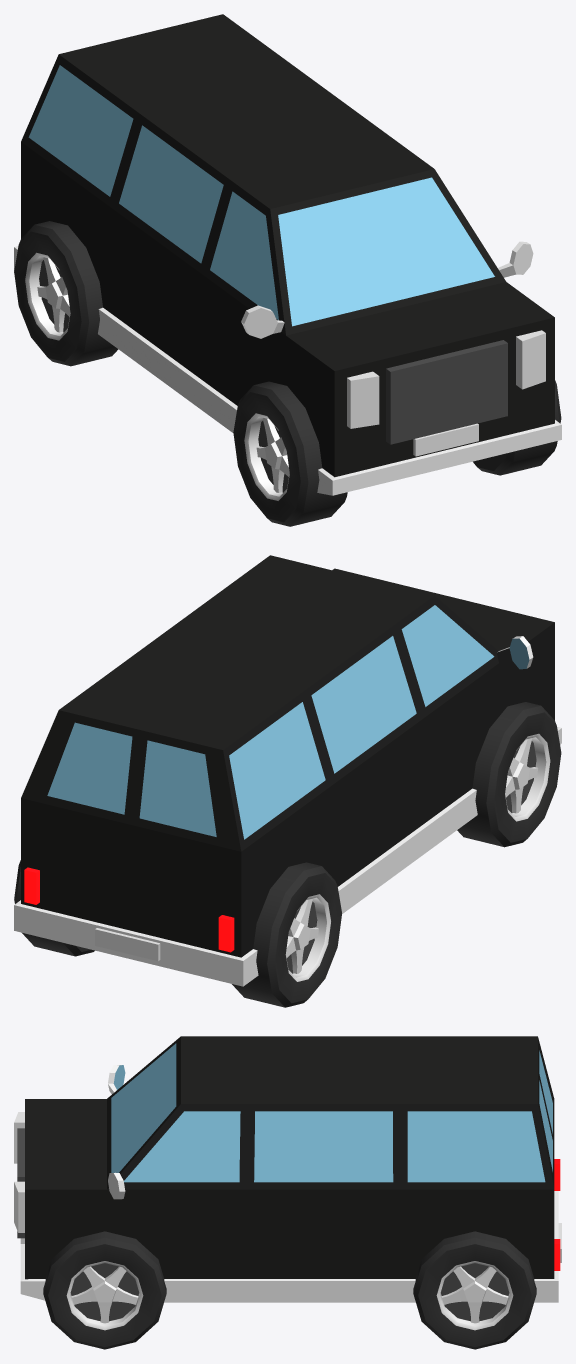
File: Car6.fbx
3 views of the same model, one above another, from view 1: azimuth 30°, elevation 25°; view 2: azimuth 150°, elevation 25°; view 3: azimuth 270°, elevation 25° (orthographic). The views are drawn at different scales.
Visible parts, largest first — view 1: van, van.003, van.004, van.001; view 2: van, van.004, van.003, van.002; view 3: van, van.001, van.002.
Part boxes in pixels (bbox=[...]): van: bbox=[14, 14, 561, 495]; van.003: bbox=[233, 381, 347, 526]; van.004: bbox=[14, 221, 118, 366]; van.001: bbox=[473, 380, 561, 475]; van: bbox=[14, 555, 561, 986]; van.004: bbox=[232, 862, 341, 1007]; van.003: bbox=[457, 702, 561, 847]; van.002: bbox=[14, 860, 94, 956]; van: bbox=[14, 1036, 561, 1302]; van.001: bbox=[43, 1231, 166, 1349]; van.002: bbox=[413, 1231, 536, 1349].
Bounding box in the file's own units: 575 × 512 × 1118.
